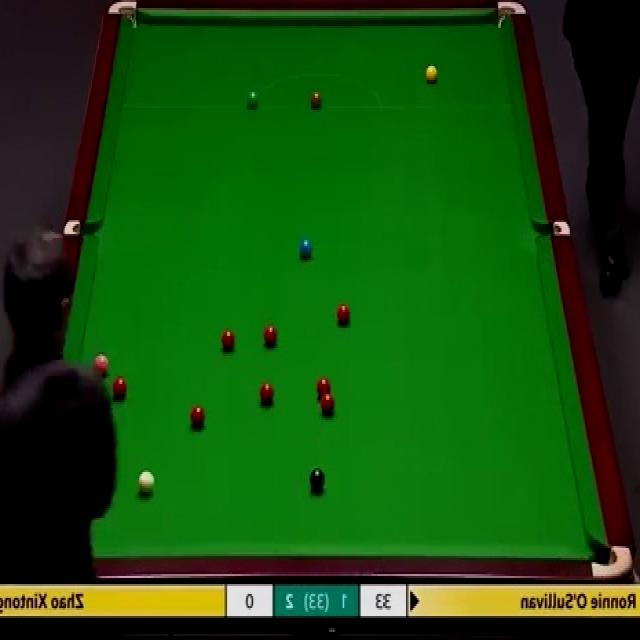black-ball: (308, 466, 326, 494)
blue-ball: (299, 236, 312, 262)
brown-ball: (309, 91, 323, 109)
green-ball: (245, 88, 260, 110)
pink-ball: (92, 354, 110, 374)
red-ball: (189, 405, 206, 432), (262, 325, 280, 348), (260, 382, 275, 406), (220, 328, 234, 352), (112, 376, 128, 397), (317, 378, 332, 398), (337, 303, 351, 324), (322, 391, 334, 414)
white-ball: (138, 469, 154, 495)
yellow-ball: (425, 66, 437, 85)
